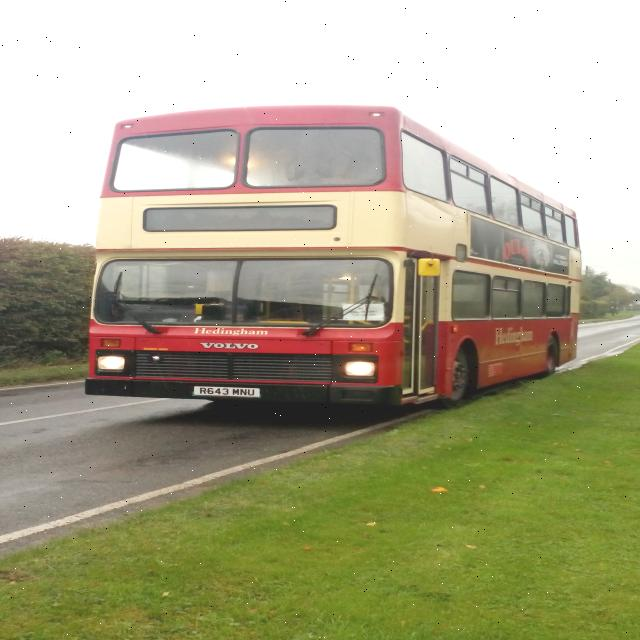Bus: (85, 103, 577, 404)
